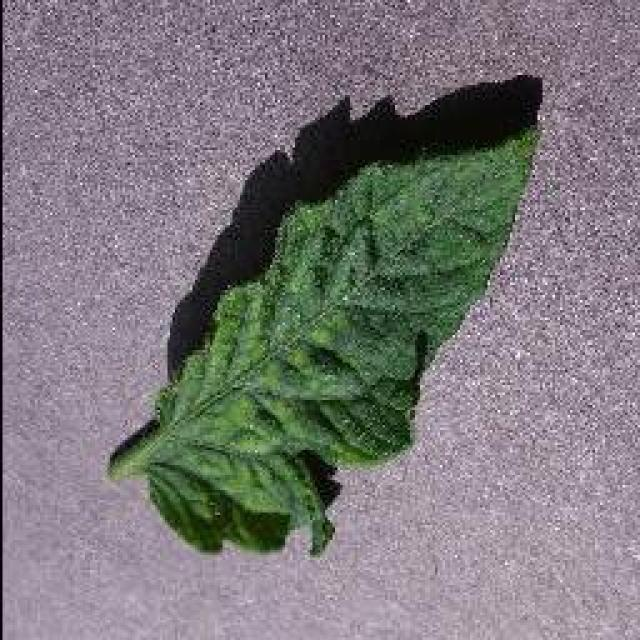Tomato___Tomato_mosaic_virus: (112, 128, 532, 552)
